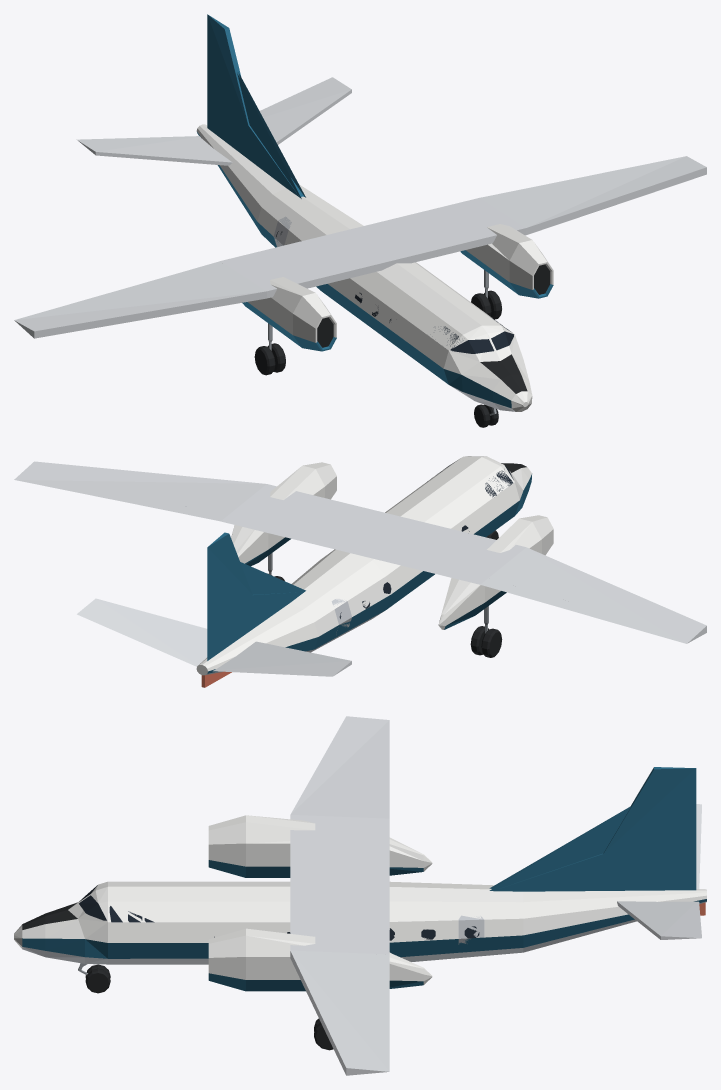
The model's file is turboprop.glb.
The picture shows the model from 3 angles, top to bottom: view 1: azimuth 30°, elevation 25°; view 2: azimuth 150°, elevation 25°; view 3: azimuth 270°, elevation 25°; orthographic projection. The views are drawn at different scales.
Parts seen in each view (by area): view 1: Airframe, FlapR, FlapL; view 2: Airframe, FlapR, FlapL; view 3: Airframe, FlapL, FlapR.
Part boxes in pixels (<box>): Airframe: <box>14,14,706,427</box>; FlapR: <box>111,261,226,292</box>; FlapL: <box>481,175,589,202</box>; Airframe: <box>14,456,706,687</box>; FlapR: <box>482,579,589,615</box>; FlapL: <box>112,496,227,520</box>; Airframe: <box>14,716,706,1075</box>; FlapL: <box>372,954,389,1016</box>; FlapR: <box>372,766,389,817</box>.
Size of the model in its own units: 29.24 by 8.61 by 24.34.
